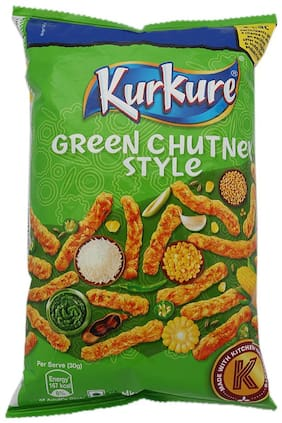plastic: (17, 9, 267, 407)
wrapper: (34, 19, 266, 400), (86, 63, 249, 121)
